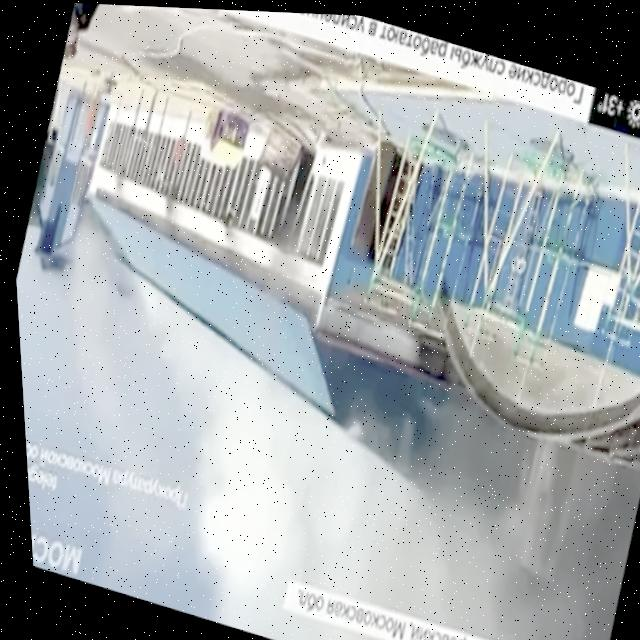Smoke: (160, 356, 640, 640)
